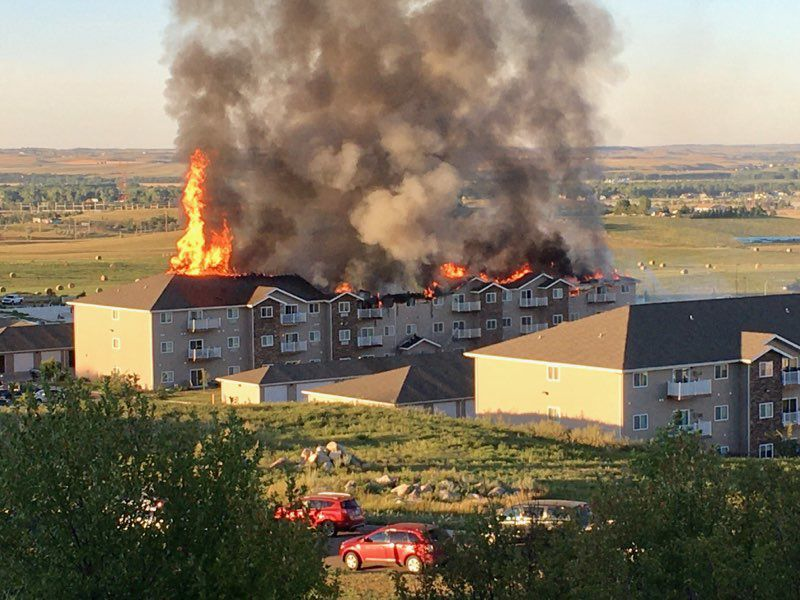smoke: (207, 1, 627, 259)
